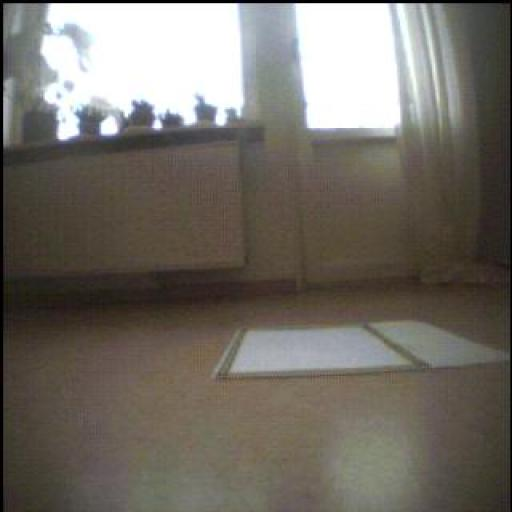Pad: (219, 310, 507, 382)
